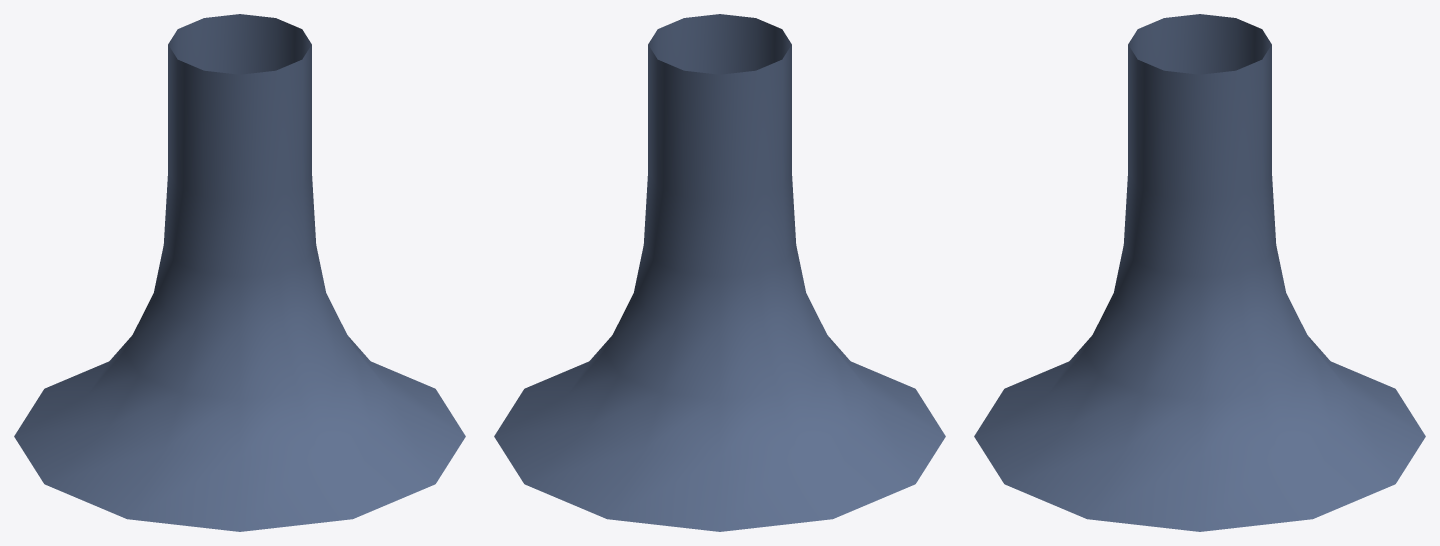
Rendered from GDT_FlowLiquid.fbx.
3 renders of one model, left to right at view 1: azimuth 30°, elevation 25°; view 2: azimuth 150°, elevation 25°; view 3: azimuth 270°, elevation 25°, orthographic.
Parts seen in each view (by area): view 1: FlowLiquid; view 2: FlowLiquid; view 3: FlowLiquid.
Boxes of the visible parts, bbox=[...] form: FlowLiquid: bbox=[14, 14, 465, 531]; FlowLiquid: bbox=[494, 14, 945, 531]; FlowLiquid: bbox=[974, 14, 1425, 531].
Bounding box in the file's own units: 15.19 × 14.55 × 15.19.
